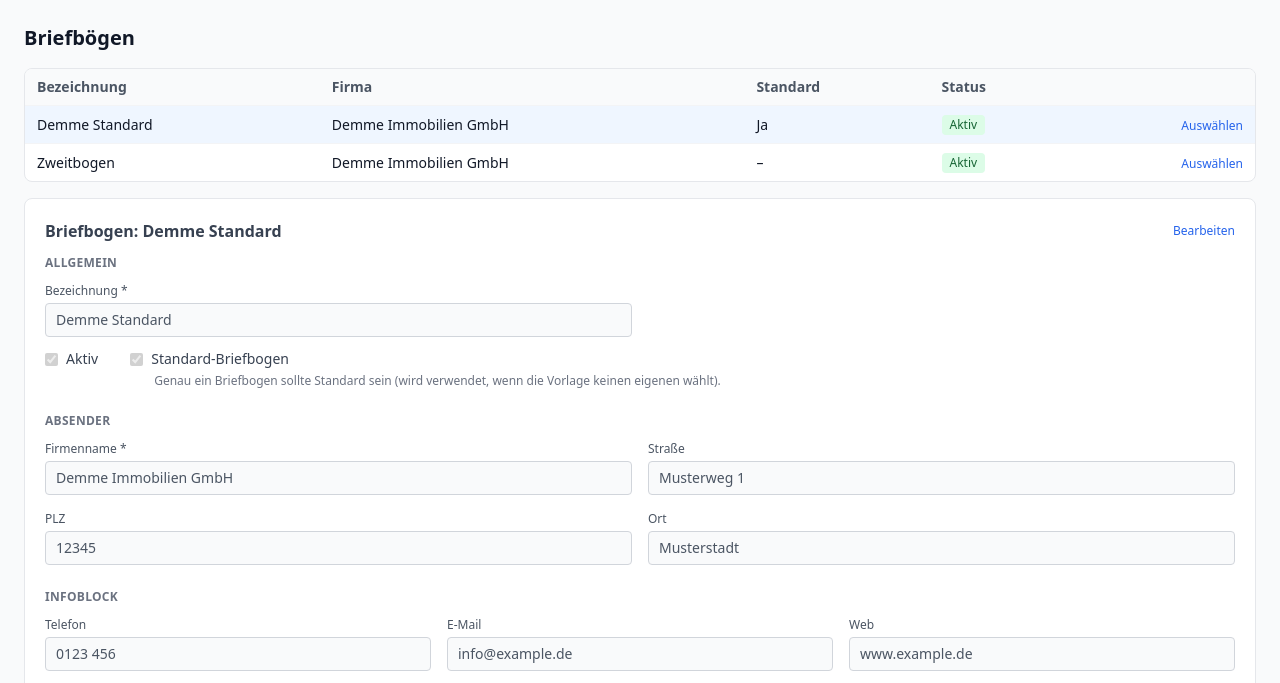
Test: BriefbogenVerwaltung › warnt, wenn ein zweiter Briefbogen Standard würde
Click the button with aria-label "Briefbogen Zweitbogen auswählen" at (1212, 164), box x1=1181 y1=156 x2=1243 y2=172
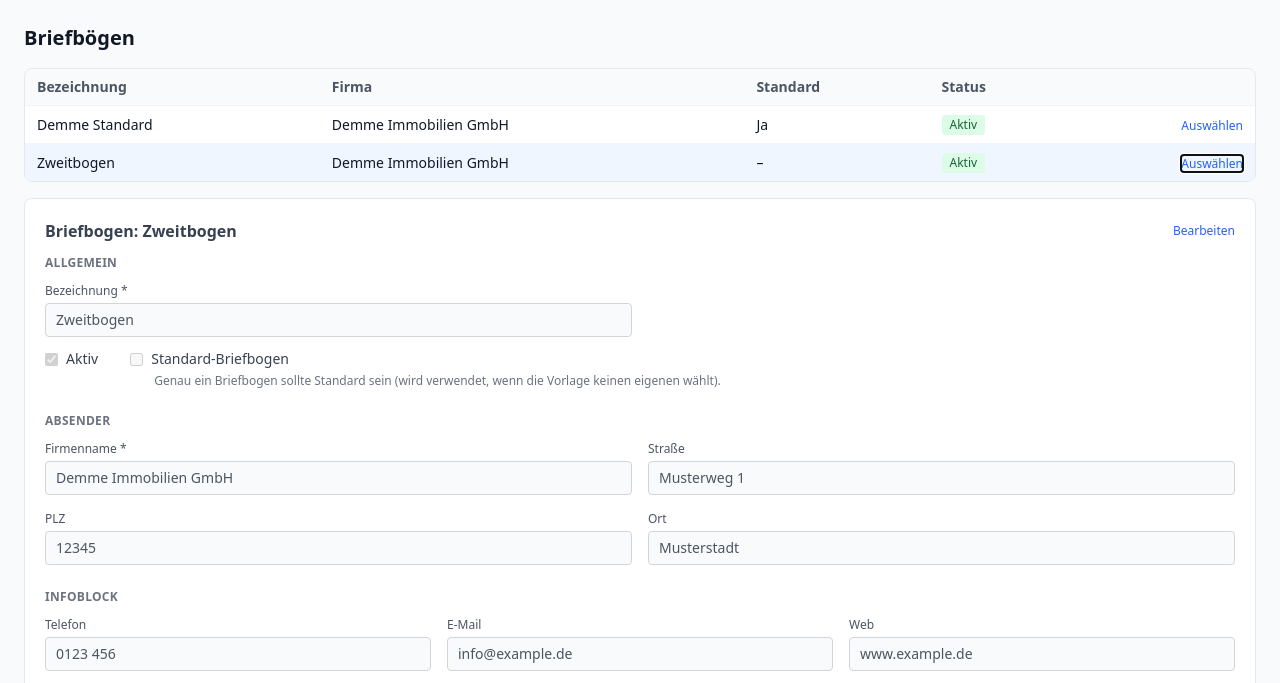
Click the button "Bearbeiten" at (1204, 231), box x1=1173 y1=223 x2=1235 y2=239
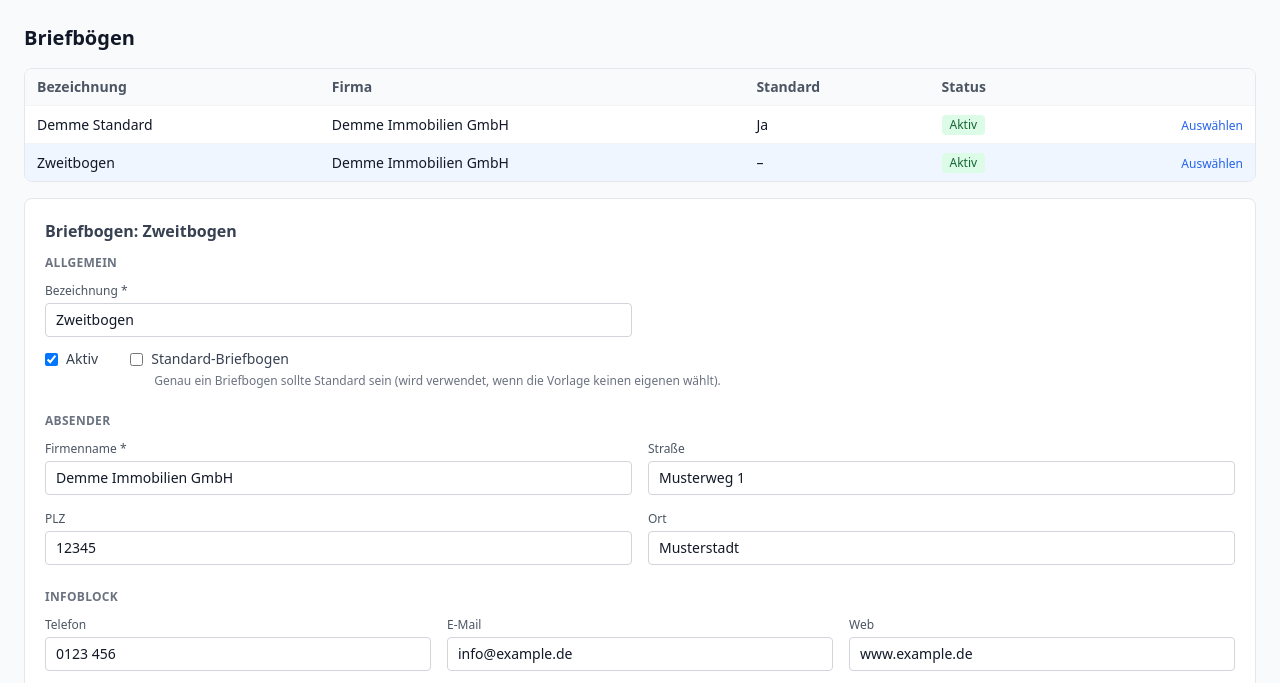
Click the checkbox labelled "Standard-Briefbogen" at (137, 359), box x1=130 y1=352 x2=143 y2=366
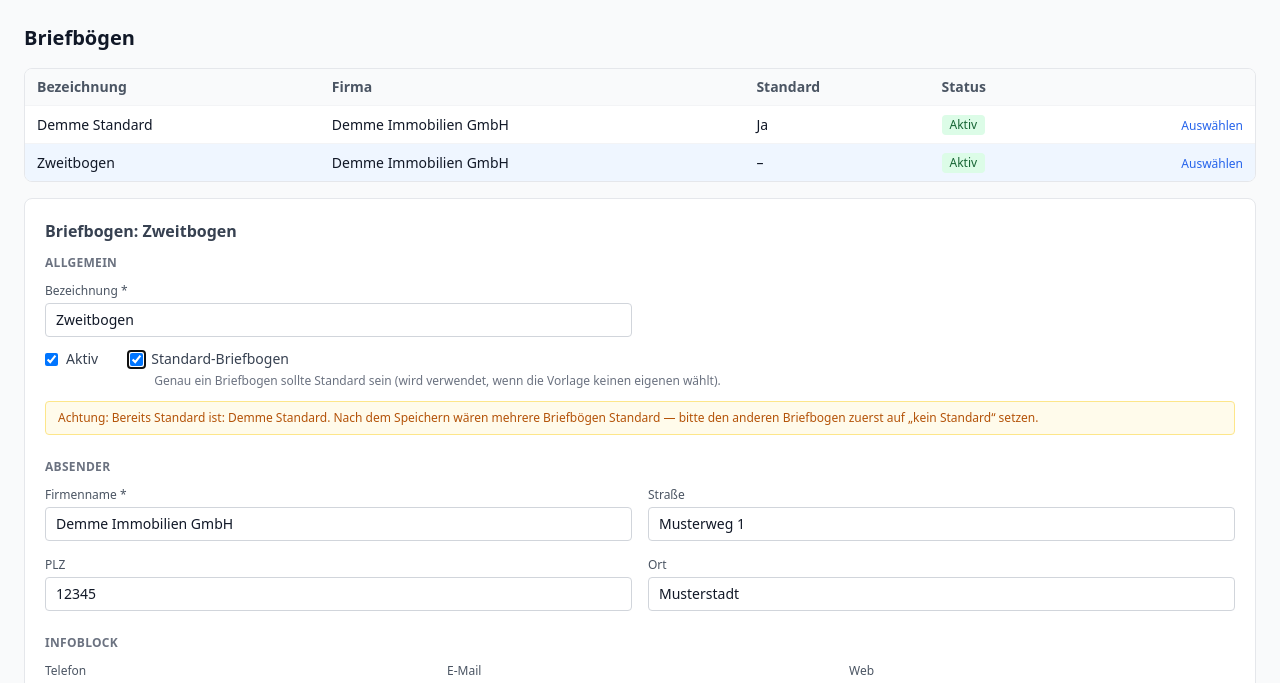
Expected: the text "Bereits Standard ist: Demme Standard" is shown, x1=45 y1=401 x2=1235 y2=435
